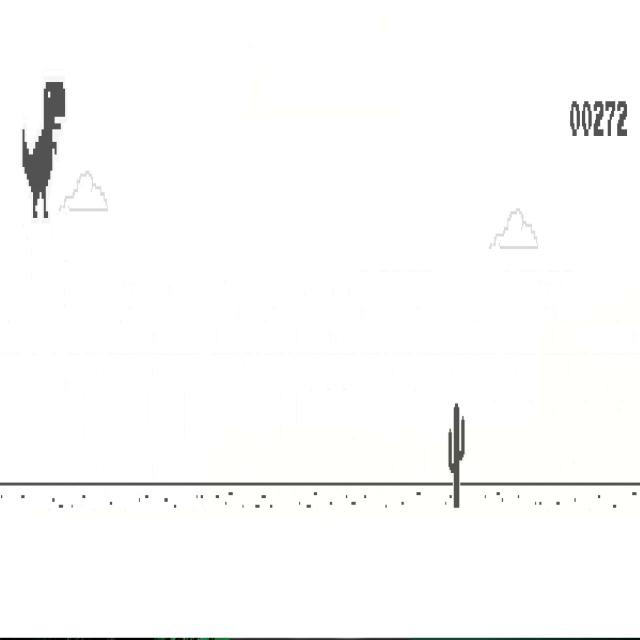cacto: (448, 402, 465, 509)
dino: (23, 81, 66, 221)
